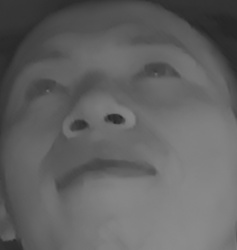eye: (131, 52, 182, 88), (18, 72, 70, 106)
mouth: (47, 147, 161, 199)
